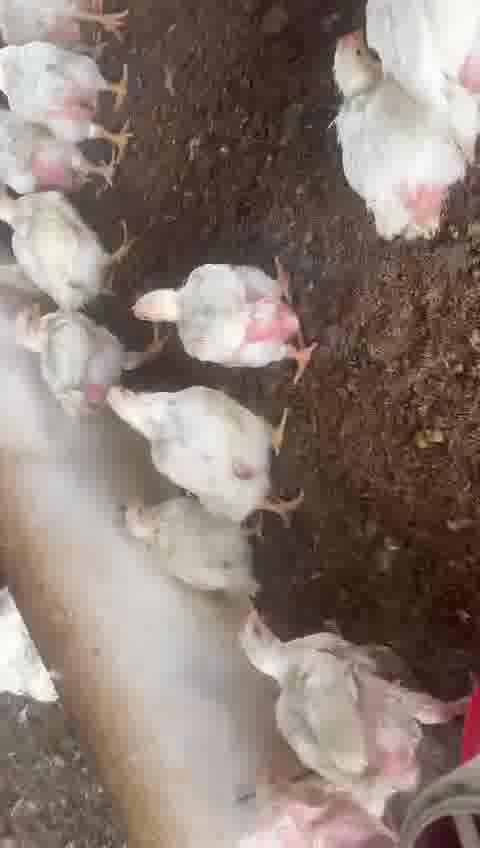AbNormal: (330, 25, 461, 230)
Normal: (245, 612, 467, 799), (104, 385, 306, 525), (134, 262, 317, 370), (2, 50, 132, 150), (12, 302, 156, 390)
